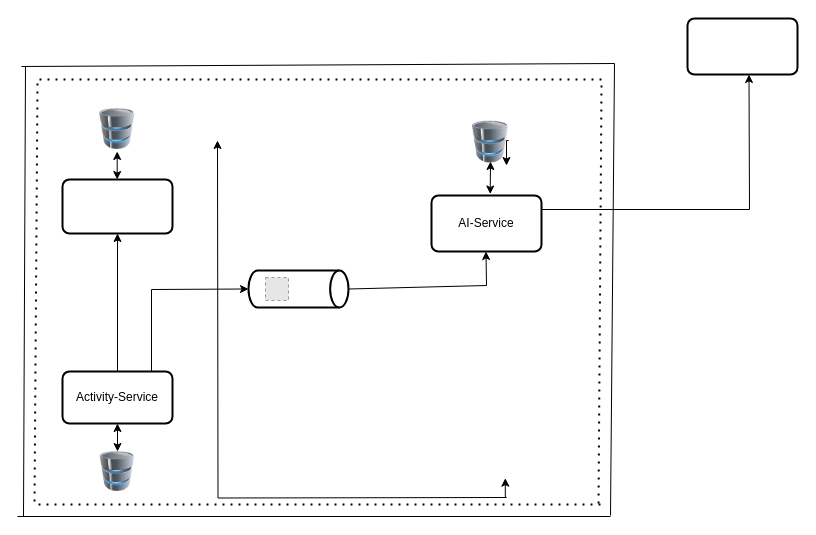
Image size: 816x535. Some labels were removed from this diagram. Grey dashed boxes stand in for pictures. The box of each missing label's shape, as (x1, y1, x2, y2) in pixels:
Gemini-Server: (686, 17, 798, 75)
User-Service: (61, 178, 173, 234)
